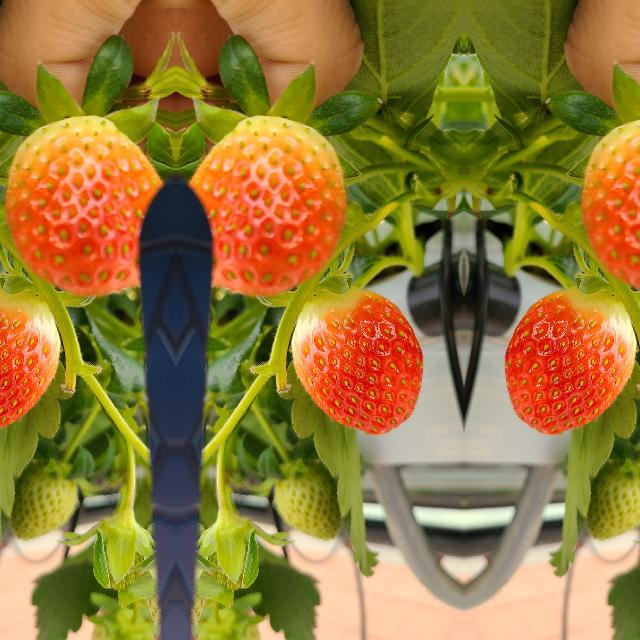Health_100: (186, 114, 342, 294), (8, 114, 164, 294), (290, 286, 422, 434), (504, 286, 636, 434), (584, 114, 640, 294), (0, 286, 59, 434)
